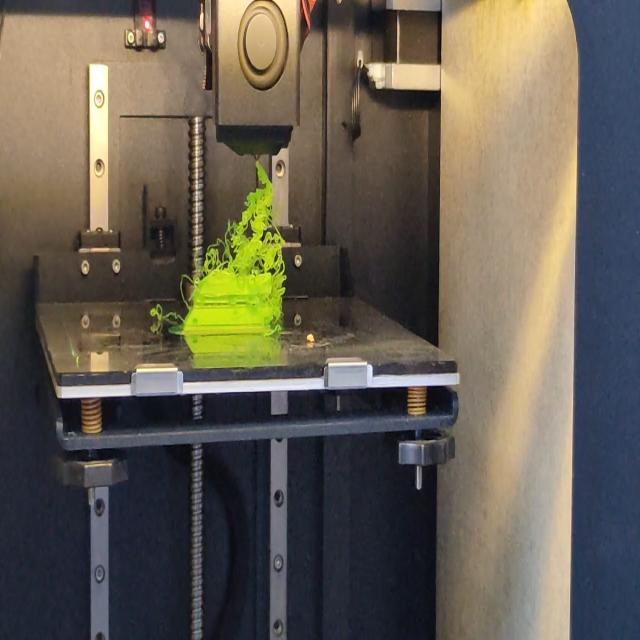spaghetti: (198, 158, 289, 278), (272, 273, 284, 335), (147, 302, 180, 322), (178, 268, 192, 312)
